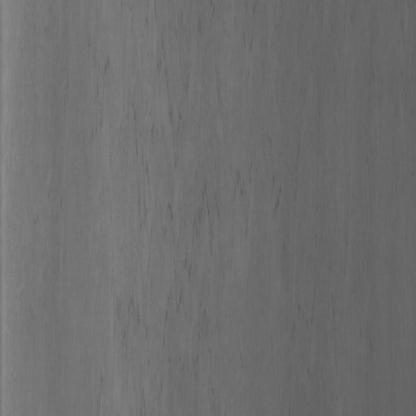silk_spot: (112, 34, 233, 341)
